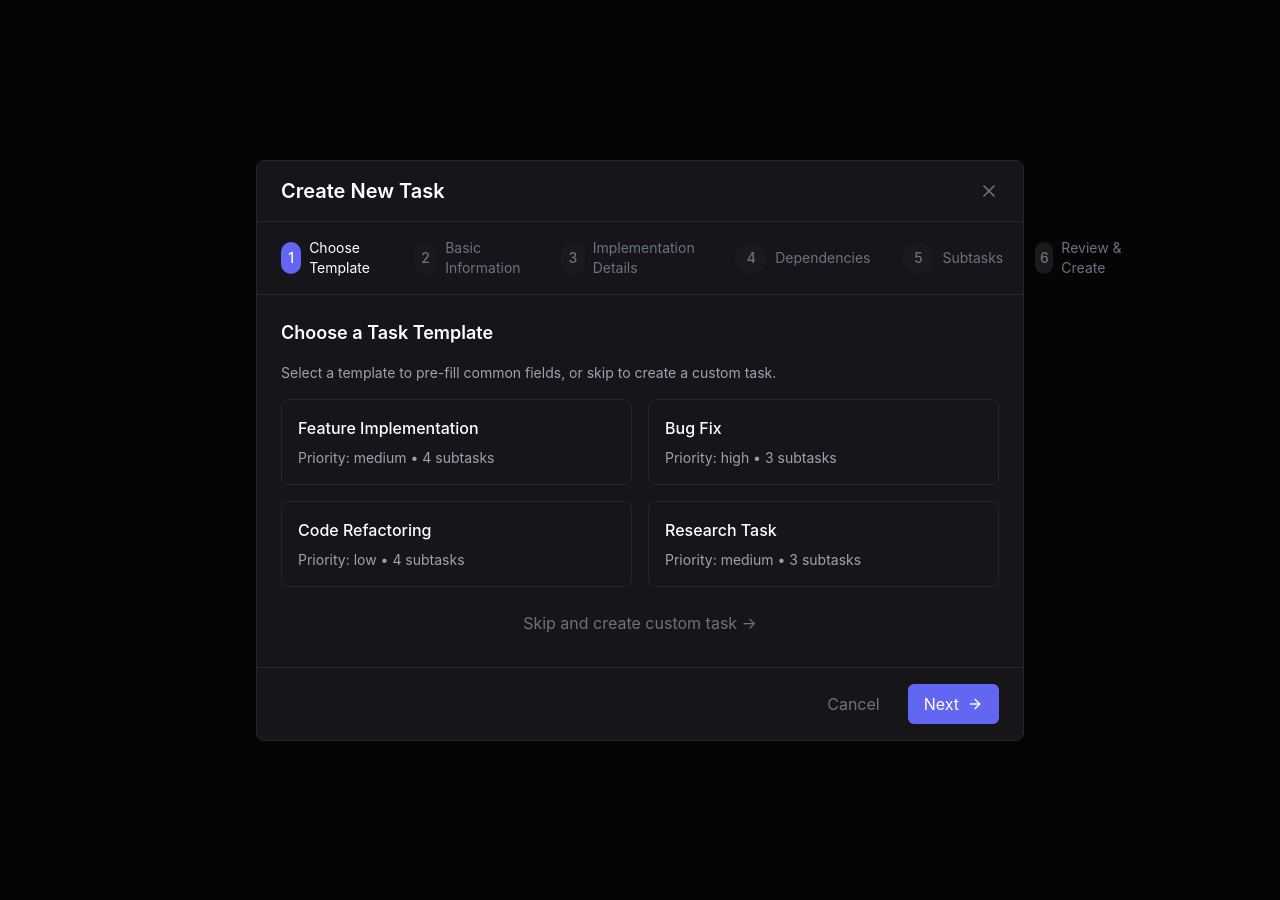
Test: TaskCreationWizard › handles dependency selection
Note: Navigate to dependencies step
Click the button "Skip and create custom task →": (640, 622) [281,602,999,642]
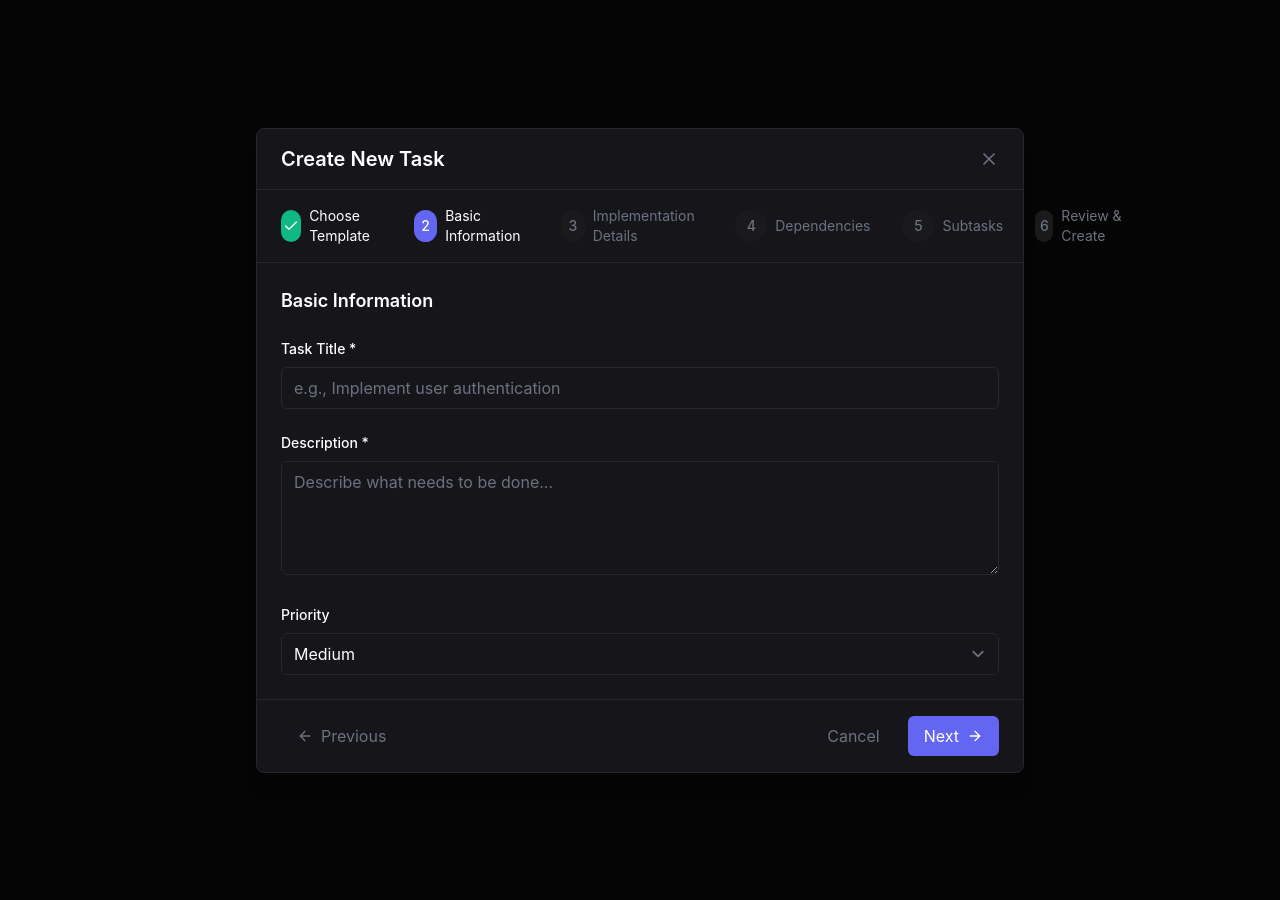
In the field with placeholder "e.g., Implement user authentication": (640, 388) [281,366,999,408], type "Test Task"
In the text box with placeholder "Describe what needs to be done...": (640, 518) [281,460,999,574], type "Test description with enough content"
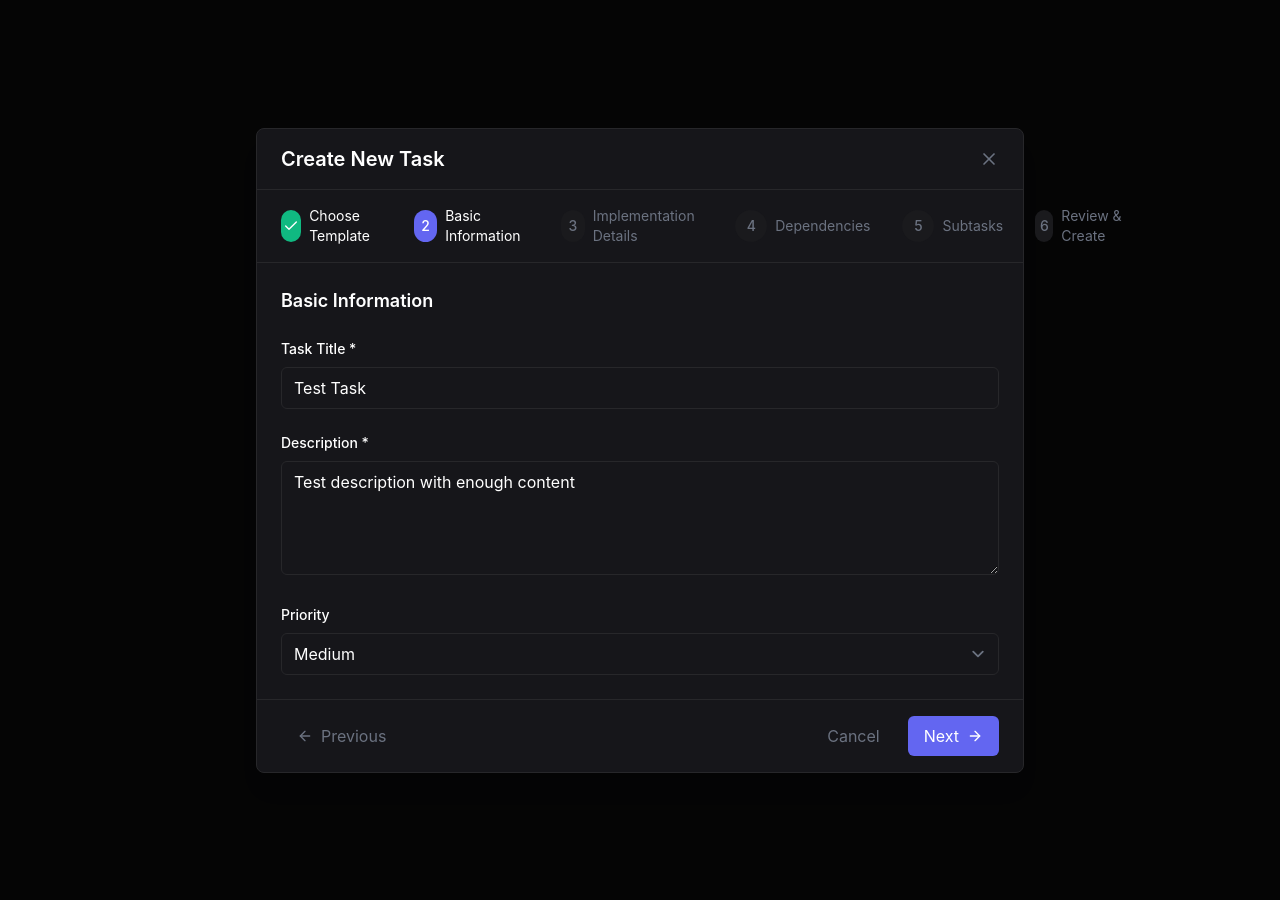
Click the button "Next": (953, 736) [908,716,999,756]
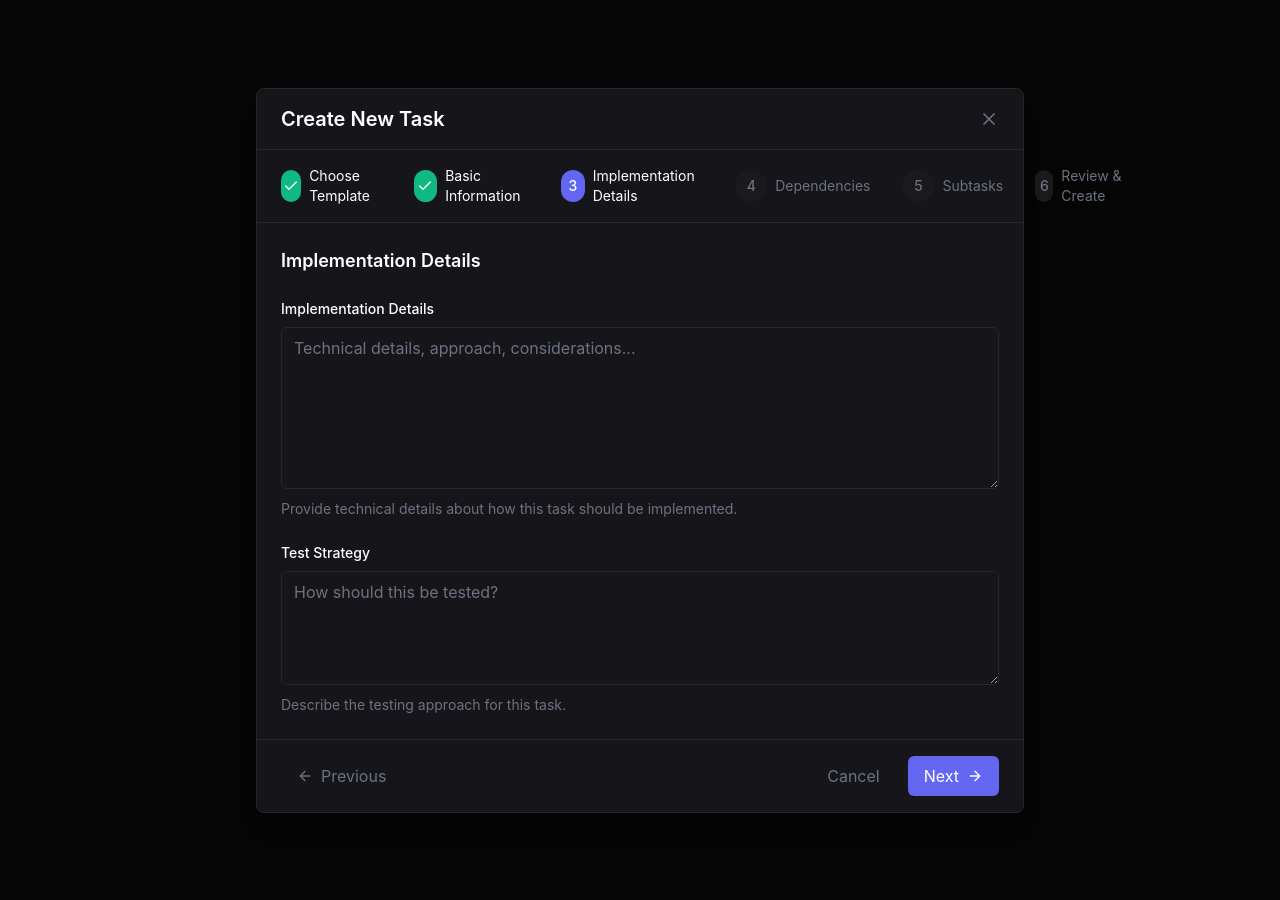
Click the button "Next": (953, 776) [908,756,999,796]
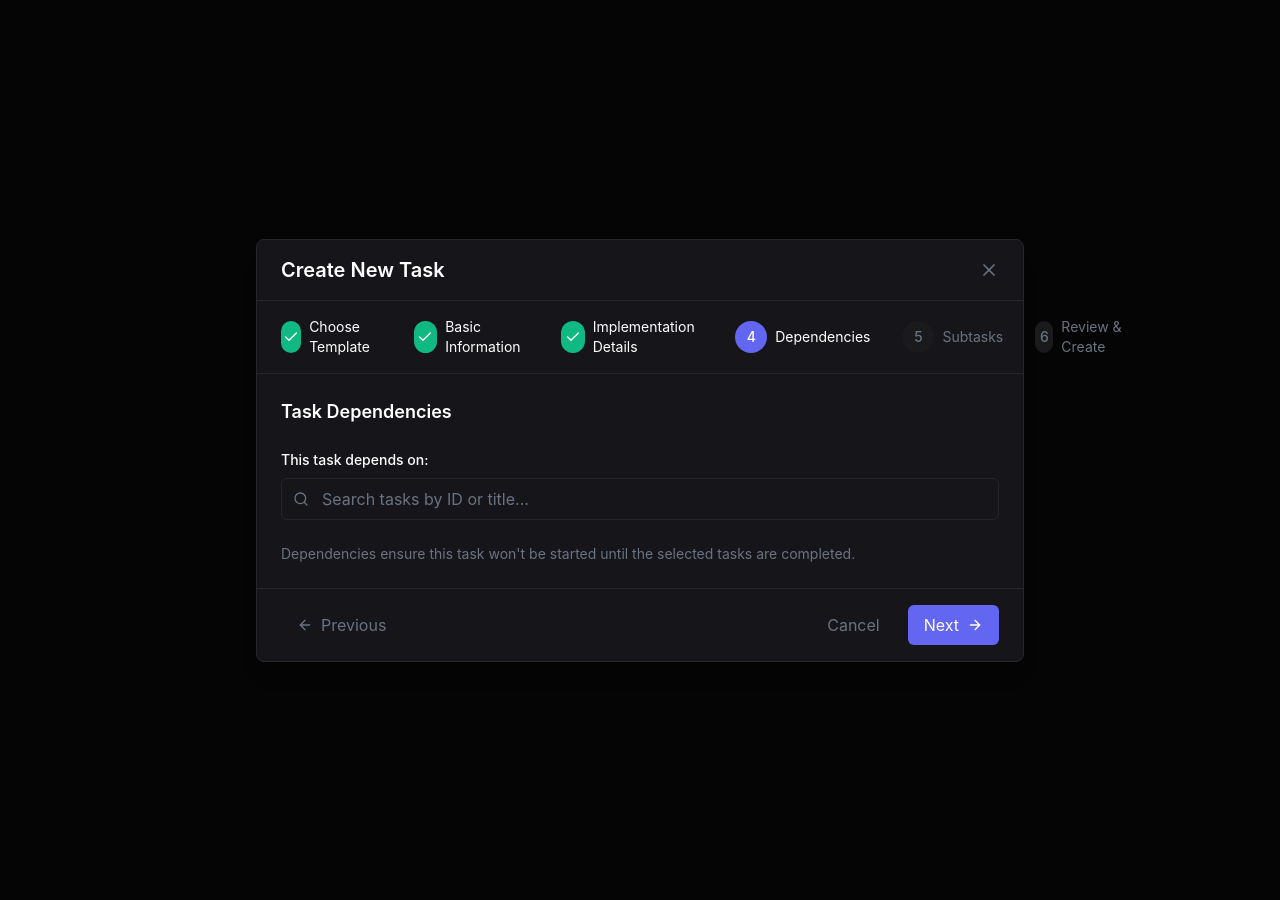
Note: Search for tasks
In the field with placeholder "Search tasks by ID or title...": (640, 498) [281,478,999,520], type "Existing"
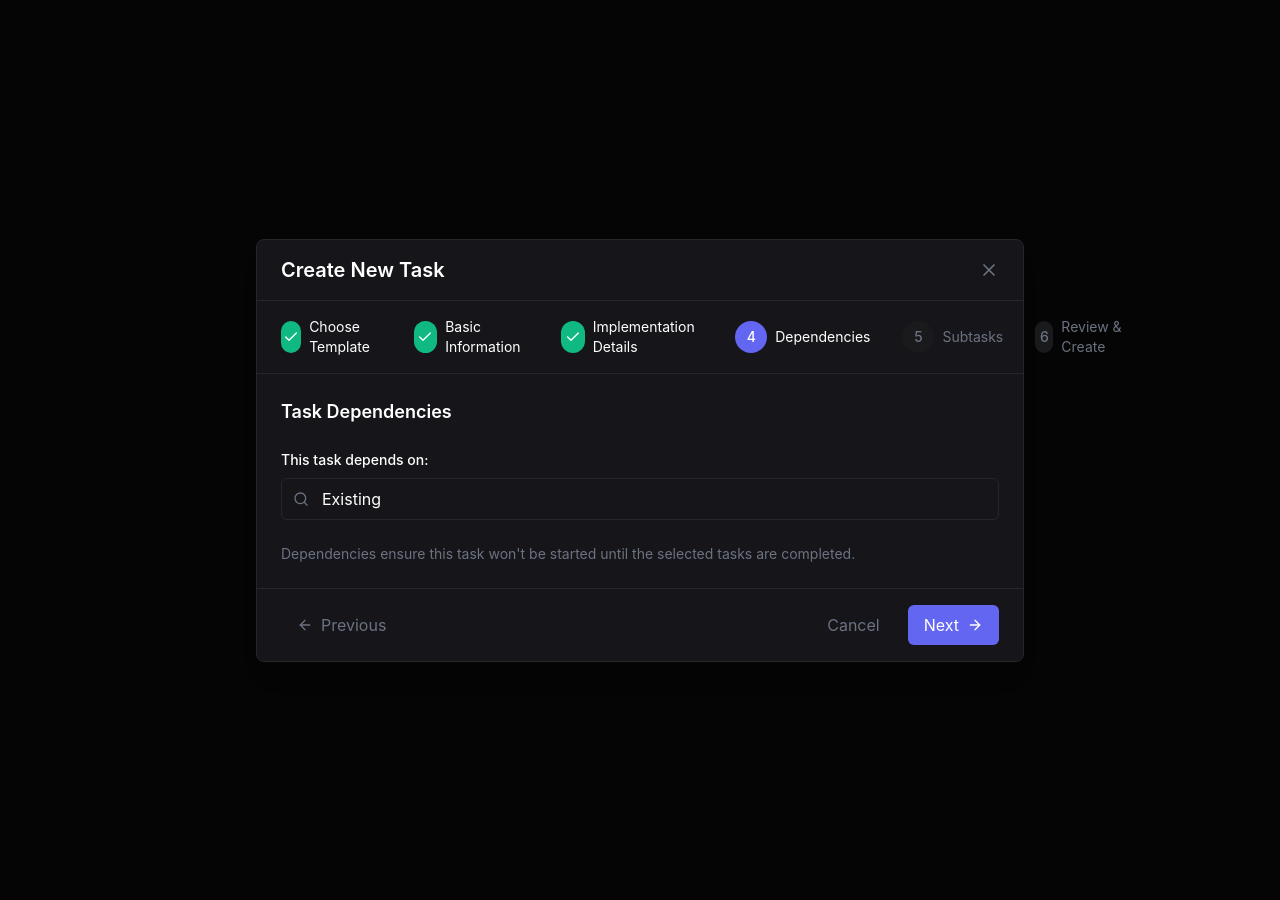
Focus the field with placeholder "Search tasks by ID or title...": (640, 498) [281,478,999,520]
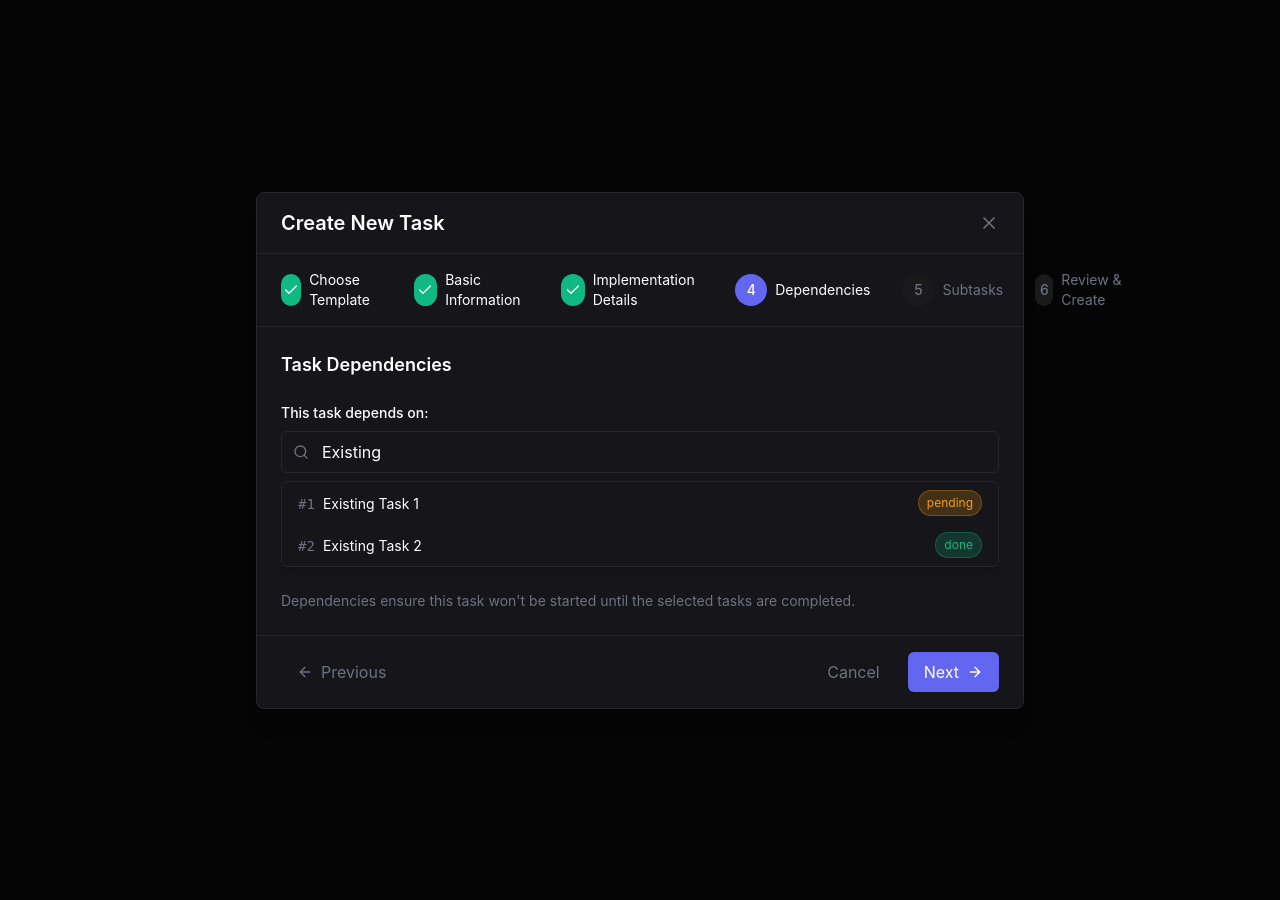
Now the text "Existing Task 1" is shown, box [323,494,419,512]
Now the text "Existing Task 2" is shown, box [323,536,422,554]
